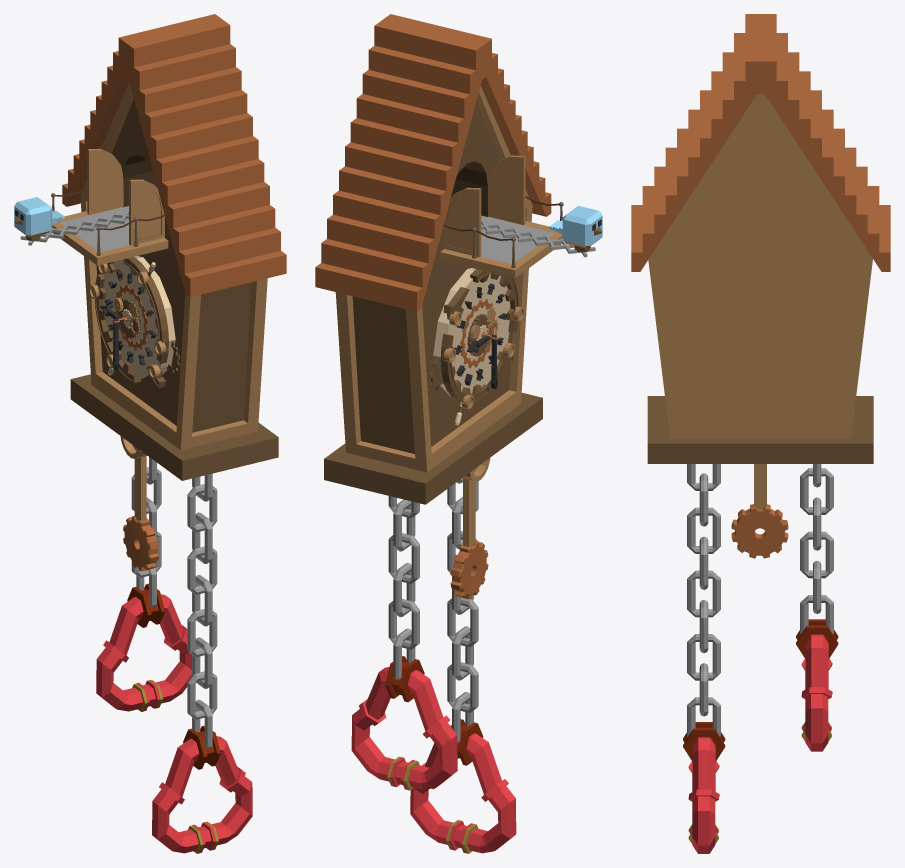
The model's file is CuckooV2.fbx.
3 renders of one model, left to right at view 1: azimuth 30°, elevation 25°; view 2: azimuth 150°, elevation 25°; view 3: azimuth 270°, elevation 25°, orthographic. The views are drawn at different scales.
Visible parts, largest first — view 1: Roof, UserWatch, PipeL.003, PipeL.001, Chain.001, GearSmall.006, Cylinder.003, Cylinder.001, Chain.002, Bird4.001, Cube.001, OutSideRing.013; view 2: Roof, UserWatch, PipeL.001, PipeL.003, Chain.001, Chain.002, GearSmall.006, Cylinder.001, Cylinder.003, Bird4.001, Cube.001, OutSideRing.013; view 3: Roof, Chain.001, PipeL.001, PipeL.003, Chain.002, GearSmall.006.
Boxes of the visible parts, bbox=[...] form: Roof: bbox=[51, 14, 286, 480]; UserWatch: bbox=[89, 256, 175, 388]; PipeL.003: bbox=[152, 725, 252, 853]; PipeL.001: bbox=[96, 583, 192, 711]; Chain.001: bbox=[187, 473, 217, 748]; GearSmall.006: bbox=[120, 436, 158, 571]; Cylinder.003: bbox=[87, 148, 123, 214]; Cylinder.001: bbox=[129, 179, 164, 245]; Chain.002: bbox=[131, 457, 161, 606]; Bird4.001: bbox=[14, 197, 64, 241]; Cube.001: bbox=[20, 209, 128, 245]; OutSideRing.013: bbox=[115, 284, 148, 350]; Roof: bbox=[315, 14, 563, 504]; UserWatch: bbox=[433, 268, 524, 425]; PipeL.001: bbox=[351, 656, 457, 790]; PipeL.003: bbox=[410, 719, 516, 853]; Chain.001: bbox=[447, 478, 478, 743]; Chain.002: bbox=[388, 496, 419, 679]; GearSmall.006: bbox=[450, 458, 490, 599]; Cylinder.001: bbox=[488, 155, 525, 224]; Cylinder.003: bbox=[443, 187, 481, 257]; Bird4.001: bbox=[549, 205, 602, 252]; Cube.001: bbox=[481, 219, 595, 257]; OutSideRing.013: bbox=[460, 299, 495, 368]; Roof: bbox=[631, 14, 890, 463]; Chain.001: bbox=[687, 464, 720, 736]; PipeL.001: bbox=[796, 619, 838, 751]; PipeL.003: bbox=[683, 722, 725, 853]; Chain.002: bbox=[800, 464, 833, 634]; GearSmall.006: bbox=[731, 464, 788, 558].
Size of the model in its own units: 21.51 by 78.87 by 22.93.
